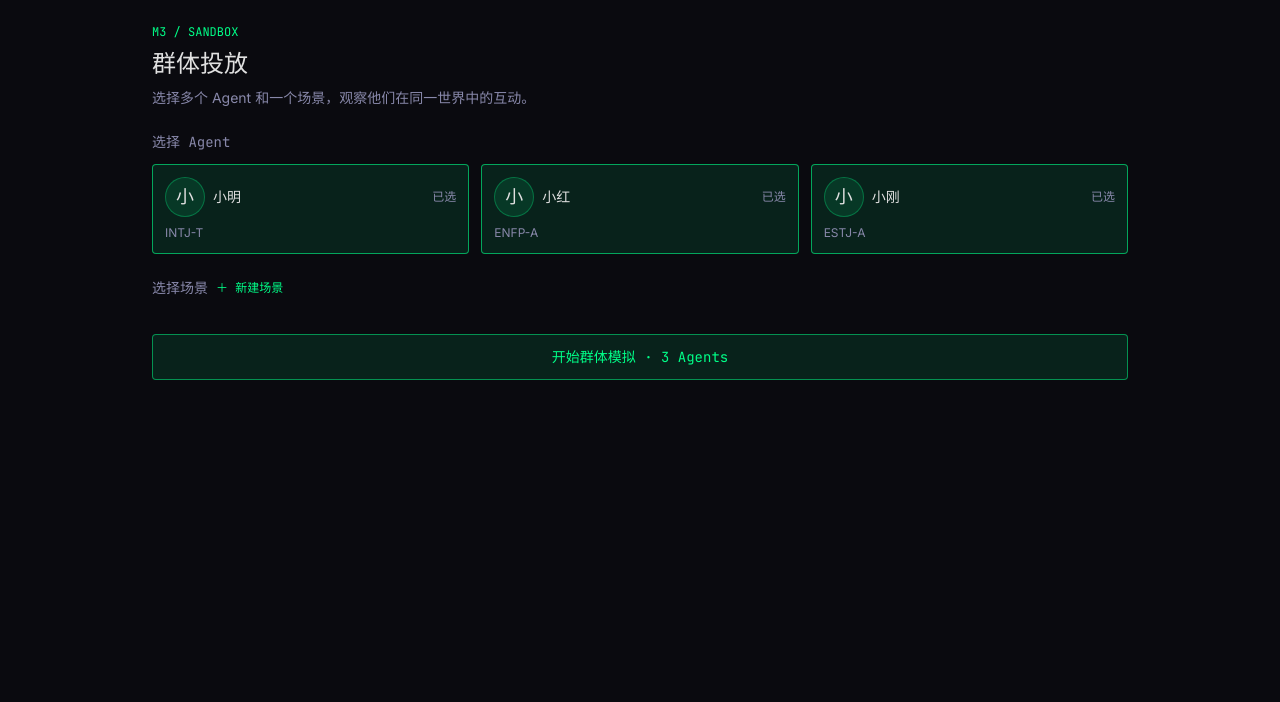
Test: Step 33 GroupSandbox › creates and starts a real multi-Agent World
This screenshot has width=1280, height=702.
Click the button "开始群体模拟 · 3 Agents" at (640, 357), box [152,334,1128,380]
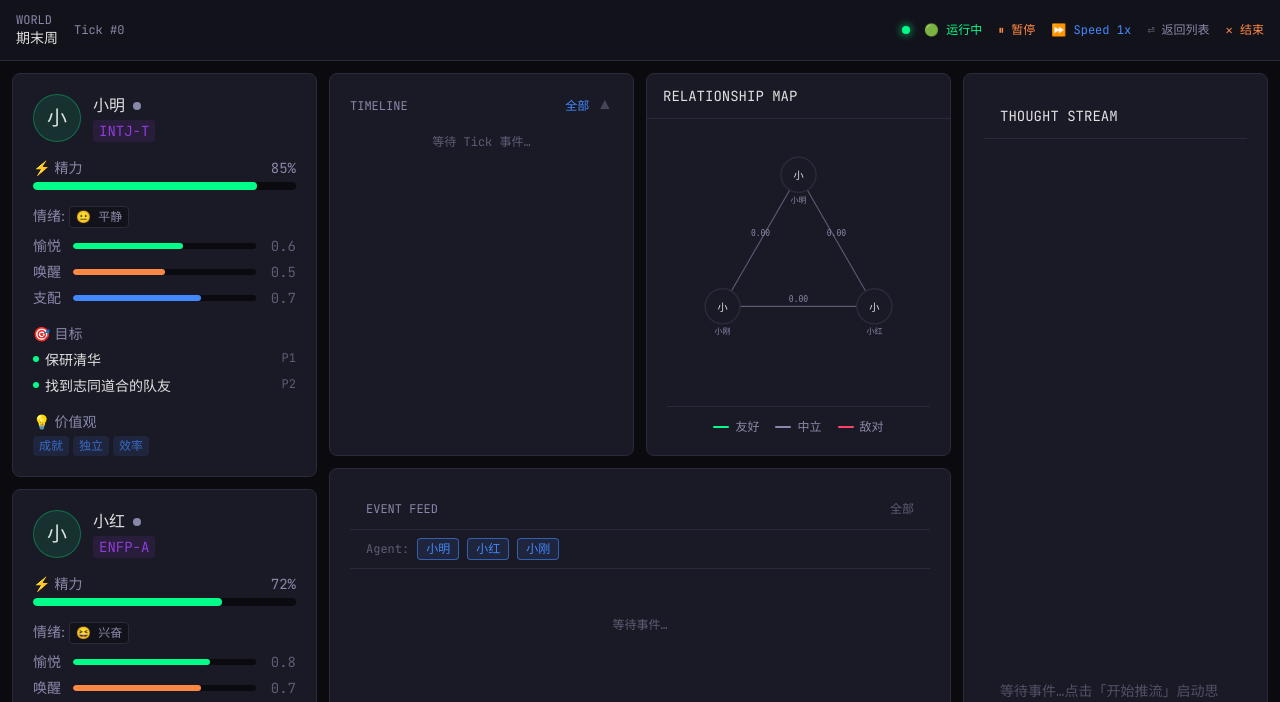
Expected: the text "🟢 运行中" is shown, [902,22,982,38]
